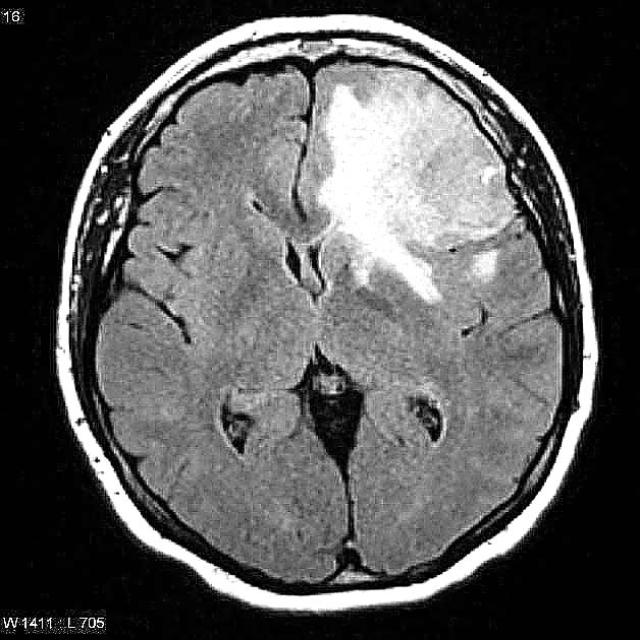Tumor-Cell: (313, 76, 482, 268)
